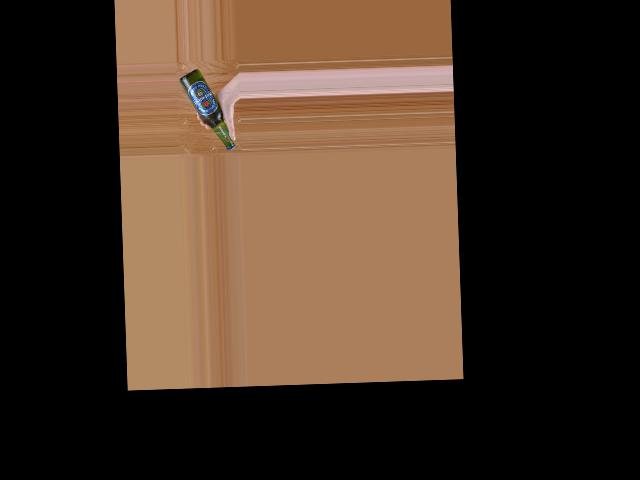beer: (179, 67, 235, 152)
